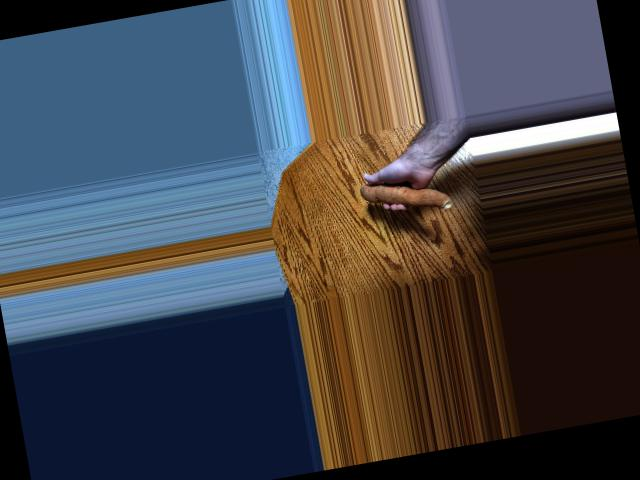sweet_potato: (357, 171, 450, 209)
